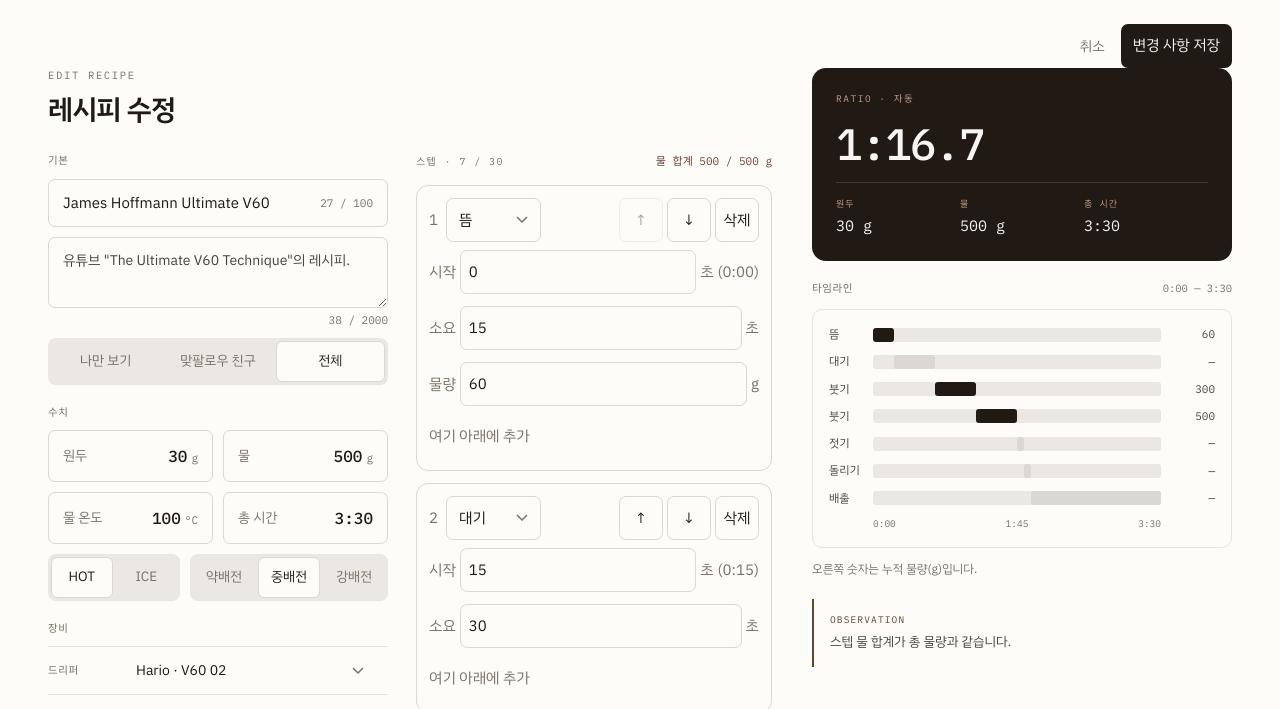
it: RecipeEditPage 상태 › AC-RECIPEEDIT-22 · 고친 뒤 취소하면 확인을 묻고, 계속 편집하면 머문다
This screenshot has width=1280, height=709.
Type "!" into the field named "제목" at (187, 203), box [63,192,310,214]
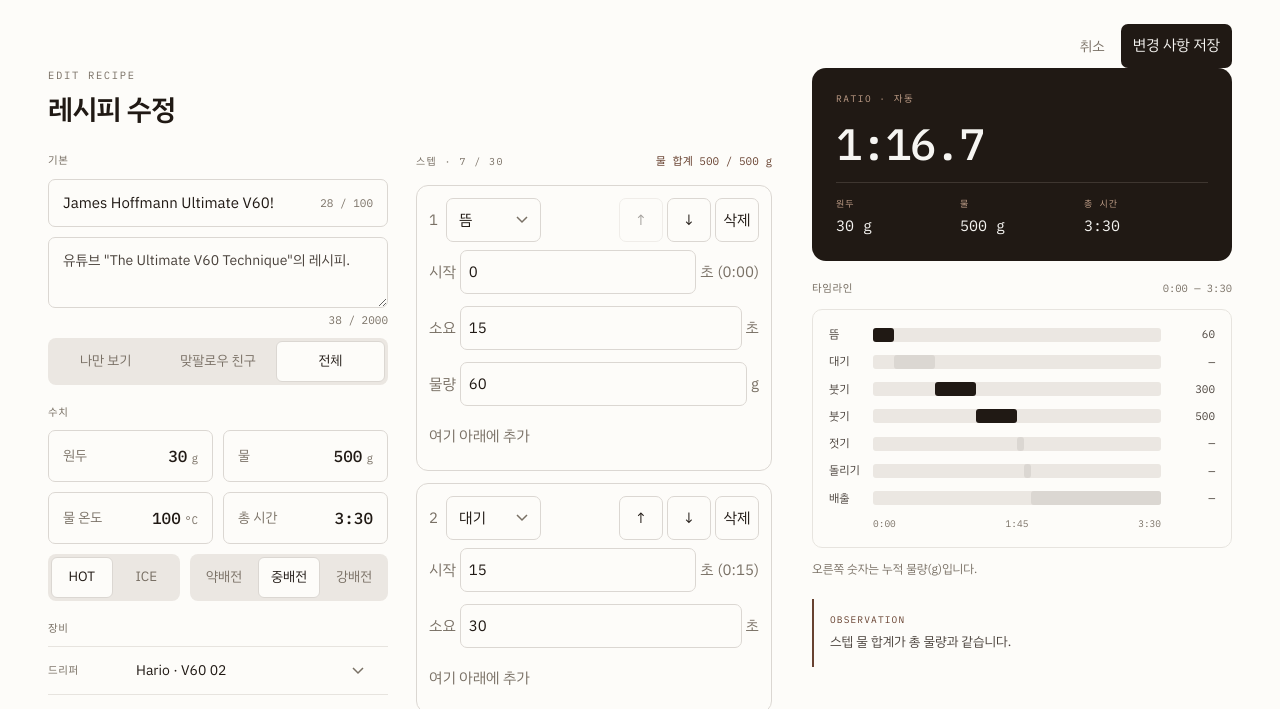
Click the button "취소" at (1092, 46), box [1072,24,1113,68]
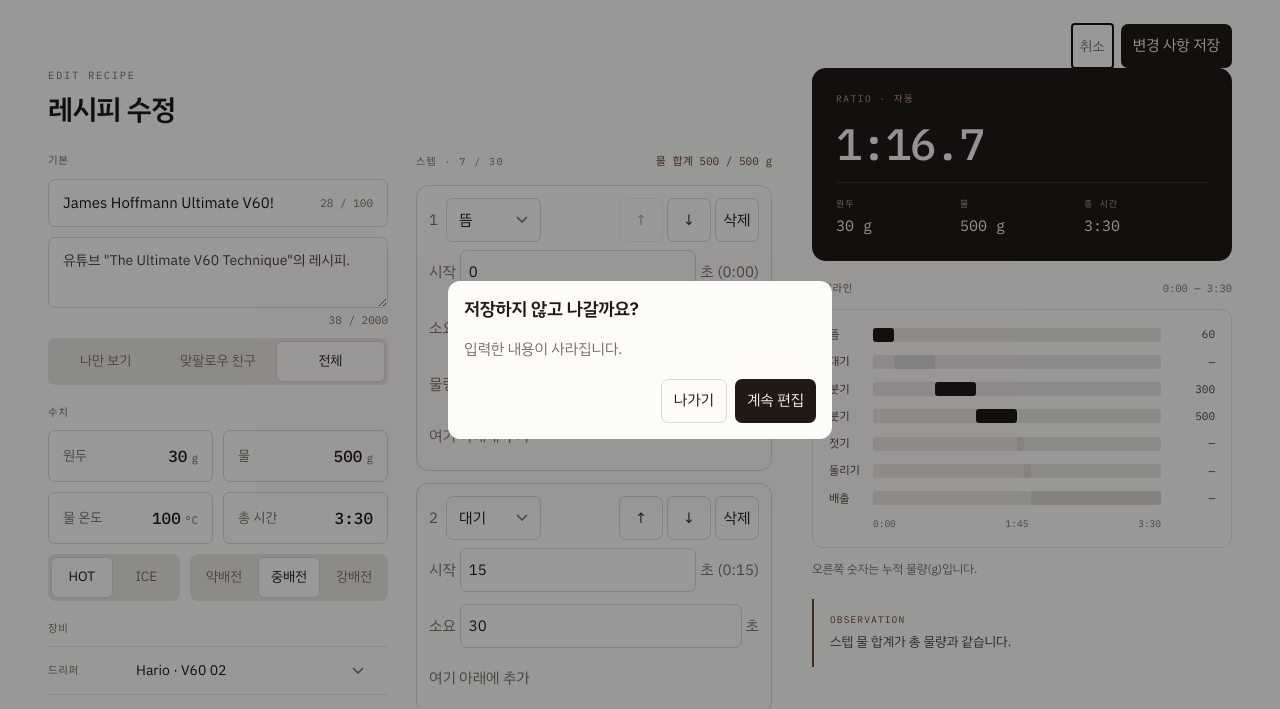
Result: the dialog "저장하지 않고 나갈까요?" is shown at [448,281,832,439]
Click the button "계속 편집" at (775, 401), box [735,379,816,423]
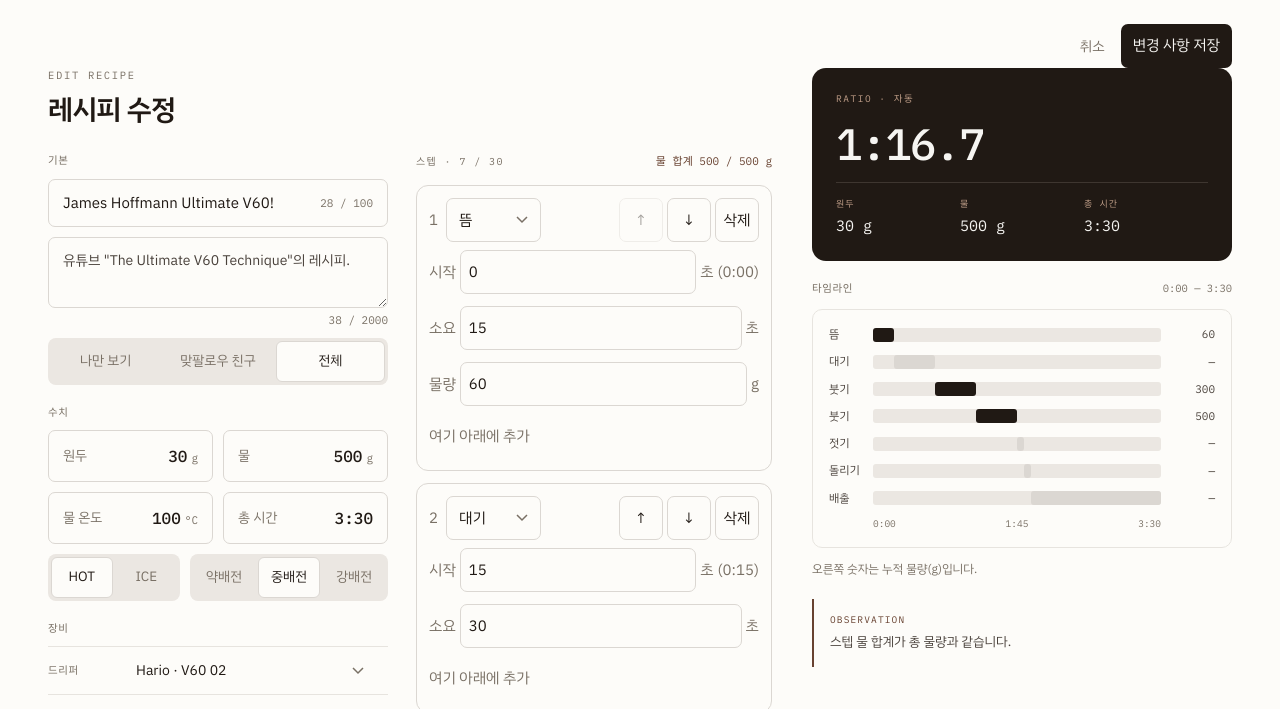
Result: the dialog is gone
